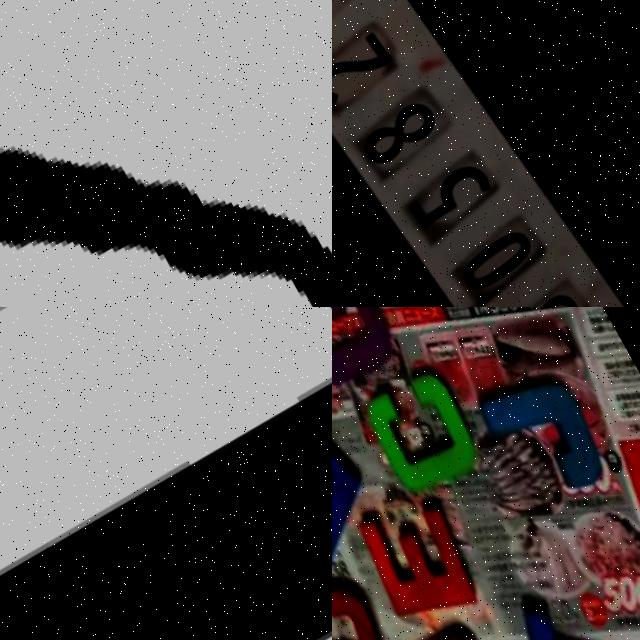0: (440, 224, 543, 307)
2: (332, 26, 405, 128)
5: (390, 153, 503, 256)
8: (342, 91, 451, 192), (487, 288, 591, 307)
B: (332, 409, 379, 574)
C: (352, 366, 484, 516)
E: (345, 486, 481, 640)
G: (332, 307, 399, 402)
J: (473, 362, 606, 515)
T: (492, 577, 640, 640)
U: (0, 307, 332, 640), (332, 561, 391, 640)
